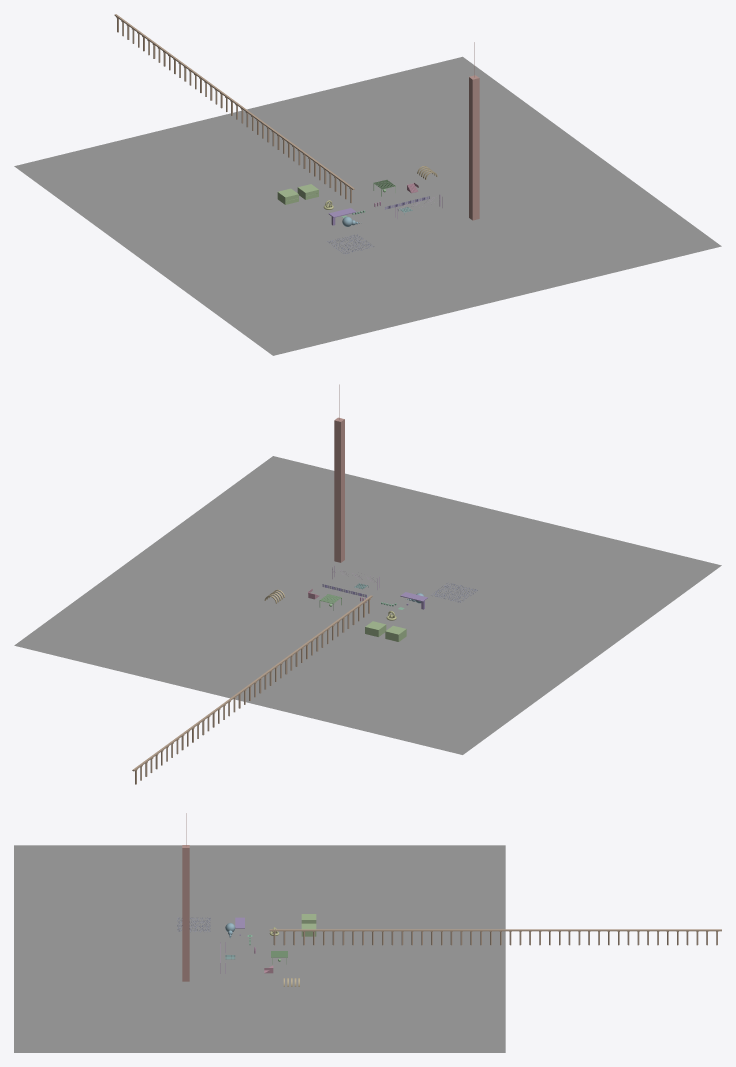
File: vsm_test_scene.glb
3 views of the same model, one above another, from view 1: azimuth 30°, elevation 25°; view 2: azimuth 150°, elevation 25°; view 3: azimuth 270°, elevation 25° (orthographic). The views are drawn at different scales.
Parts seen in each view (by area): view 1: Ground, Colonnade_Far, Tower_Tall, Room_LightLeak; view 2: Ground, Colonnade_Far, Tower_Tall; view 3: Ground, Colonnade_Far, Tower_Tall.
Boxes of the visible parts, x1=… form: Ground: x1=14, y1=56, x2=721, y2=355; Colonnade_Far: x1=114, y1=14, x2=354, y2=203; Tower_Tall: x1=469, y1=42, x2=479, y2=220; Room_LightLeak: x1=277, y1=184, x2=318, y2=204; Ground: x1=14, y1=456, x2=721, y2=754; Colonnade_Far: x1=132, y1=595, x2=372, y2=784; Tower_Tall: x1=334, y1=384, x2=344, y2=562; Ground: x1=14, y1=845, x2=505, y2=1052; Colonnade_Far: x1=269, y1=929, x2=721, y2=945; Tower_Tall: x1=182, y1=813, x2=189, y2=981.
Bounding box in the file's own units: 200 × 75.03 × 288.
